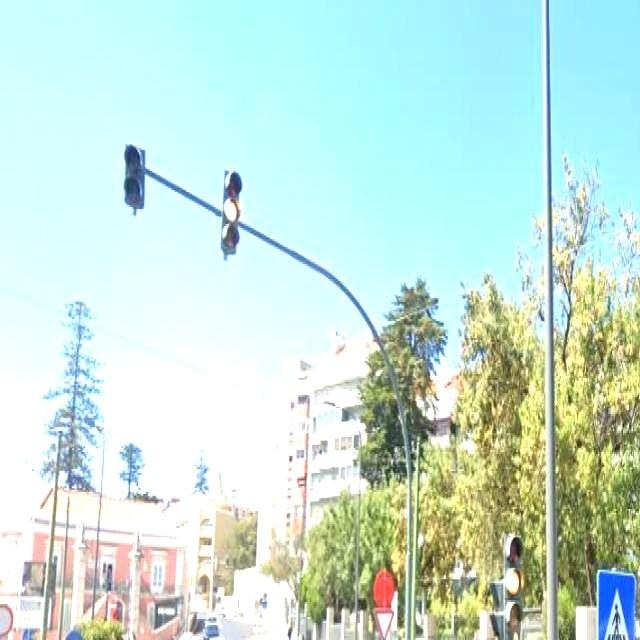Yellow: (503, 532, 522, 633), (222, 170, 242, 258)
